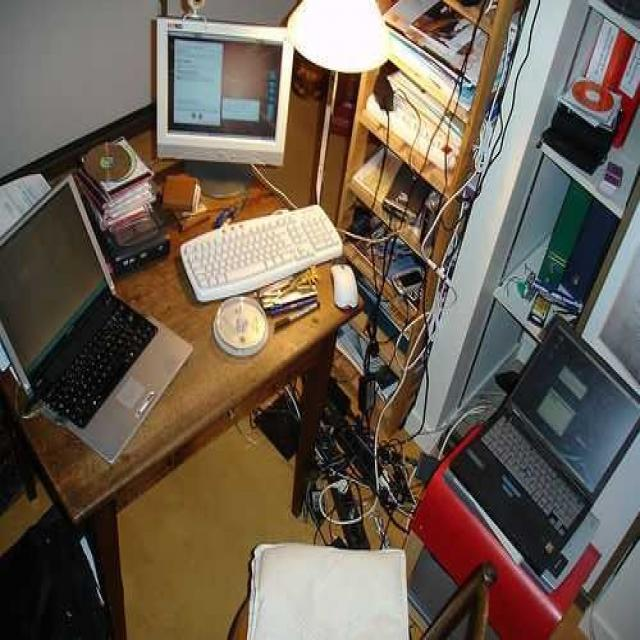laptop: (0, 185, 182, 469), (443, 318, 640, 570)
